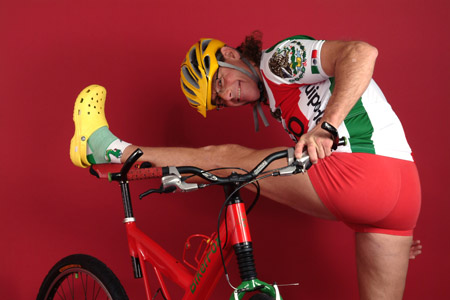with_helmet: (179, 34, 221, 116)
